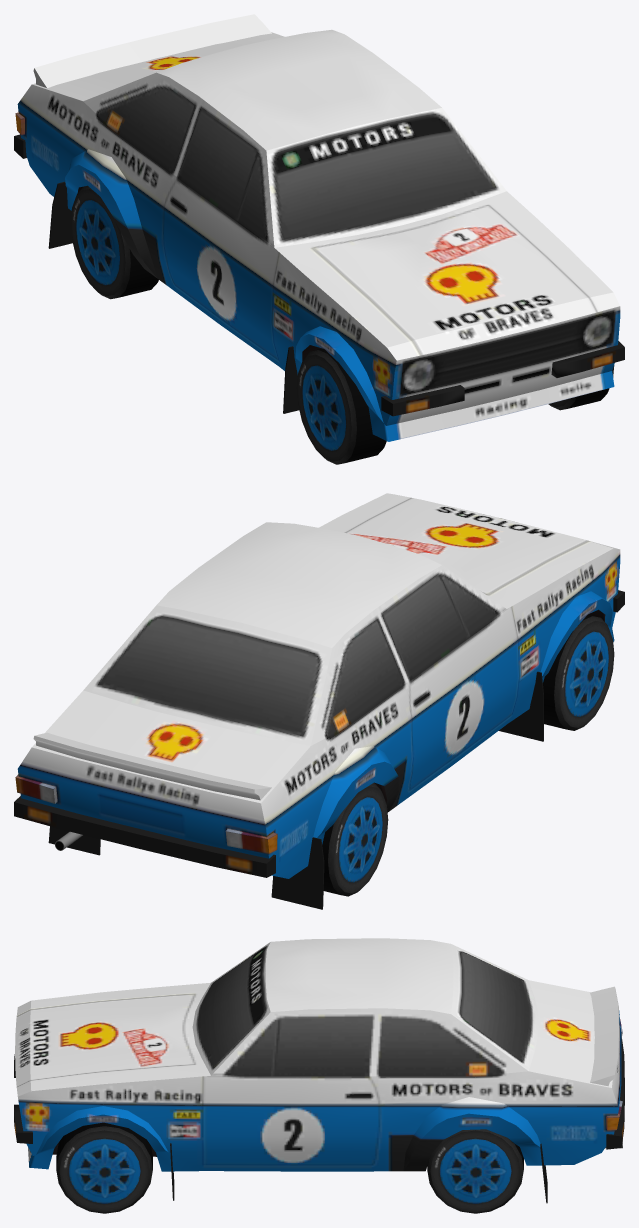
File: Ford Escort RS1800.fbx
3 views of the same model, one above another, from view 1: azimuth 30°, elevation 25°; view 2: azimuth 150°, elevation 25°; view 3: azimuth 270°, elevation 25° (orthographic). The views are drawn at different scales.
Parts seen in each view (by area): view 1: Ford Escort RS1800, L_front_wheel_geo #370623.003, L_front_wheel_geo #370623.002; view 2: Ford Escort RS1800, L_front_wheel_geo #370623.003, L_front_wheel_geo #370623.002; view 3: Ford Escort RS1800, L_front_wheel_geo #370623, L_front_wheel_geo #370623.001.
Part boxes in pixels (x1,y1,x2,y2): Ford Escort RS1800: (14, 14, 624, 441); L_front_wheel_geo #370623.003: (296, 348, 386, 464); L_front_wheel_geo #370623.002: (70, 185, 158, 299); Ford Escort RS1800: (14, 493, 624, 909); L_front_wheel_geo #370623.003: (543, 614, 614, 730); L_front_wheel_geo #370623.002: (322, 783, 388, 896); Ford Escort RS1800: (14, 938, 624, 1203); L_front_wheel_geo #370623: (56, 1122, 152, 1213); L_front_wheel_geo #370623.001: (427, 1129, 523, 1213).
Size of the model in its own units: 175 by 143 by 408.
5 materials, 5 textured.
